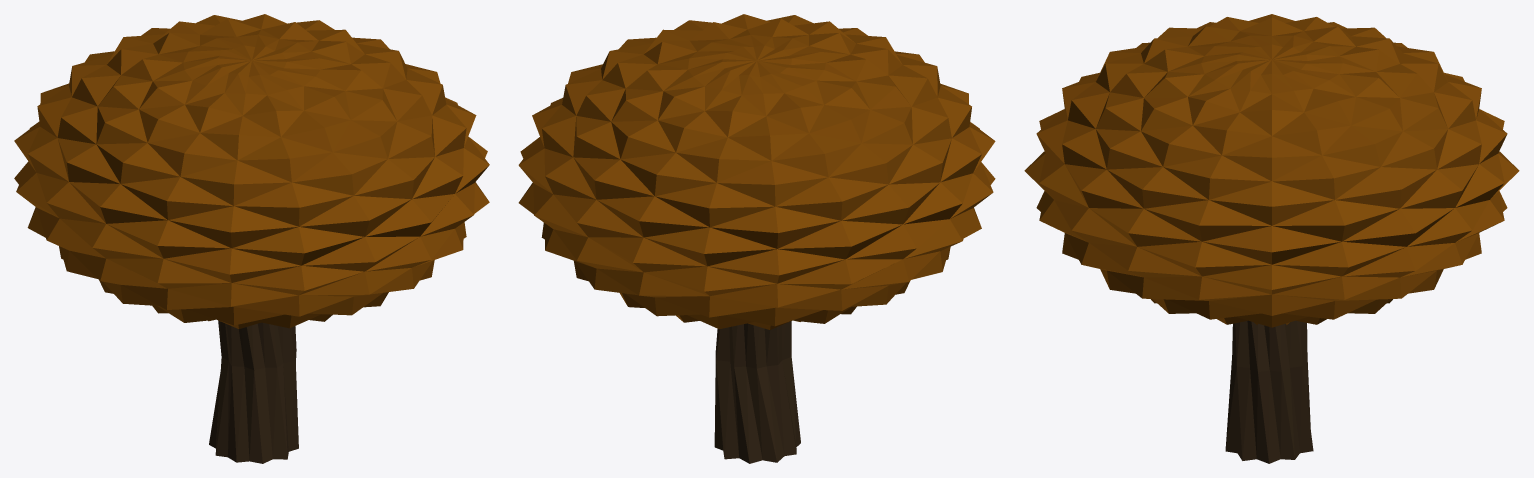
The model's file is ShortFatTree_Orange.fbx.
3 renders of one model, left to right at view 1: azimuth 30°, elevation 25°; view 2: azimuth 150°, elevation 25°; view 3: azimuth 270°, elevation 25°, orthographic.
Visible parts, largest first — view 1: pSphere3, pCylinder3; view 2: pSphere3, pCylinder3; view 3: pSphere3, pCylinder3.
Part boxes in pixels (bbox=[...]): pSphere3: bbox=[14, 14, 489, 328]; pCylinder3: bbox=[209, 320, 298, 463]; pSphere3: bbox=[518, 14, 995, 329]; pCylinder3: bbox=[714, 321, 800, 463]; pSphere3: bbox=[1024, 14, 1519, 327]; pCylinder3: bbox=[1225, 320, 1313, 463].
Size of the model in its own units: 17.7 by 15.89 by 18.46.
